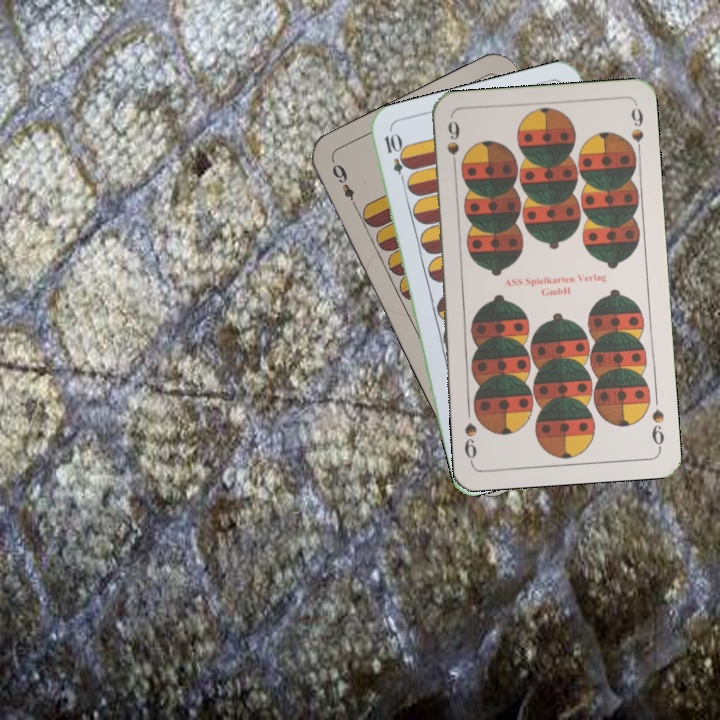E10: (380, 129, 410, 188)
E9: (328, 160, 360, 213)
S9: (443, 117, 462, 175), (647, 405, 667, 452)
